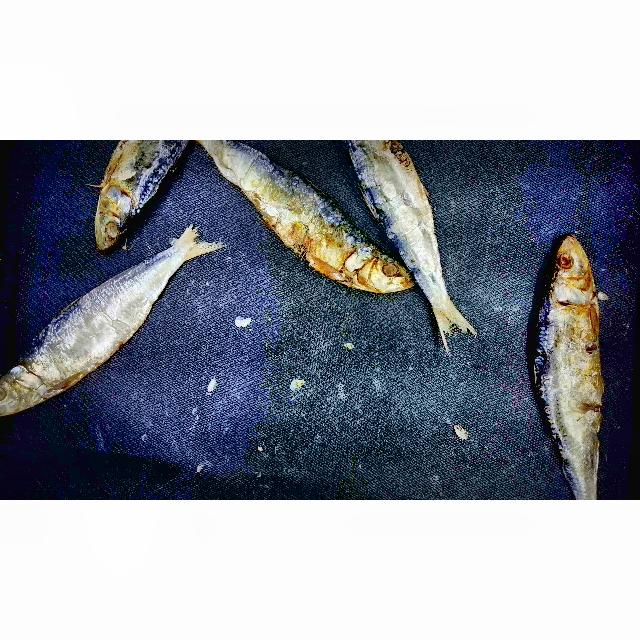Grade_C_Body: (226, 155, 353, 288), (35, 255, 162, 387), (348, 143, 449, 280), (531, 312, 605, 477)
Grade_C_Head: (537, 235, 601, 321), (340, 235, 411, 304), (85, 176, 146, 255), (0, 353, 54, 419)
Grade_C_Tail: (418, 284, 477, 348), (160, 218, 225, 271)
